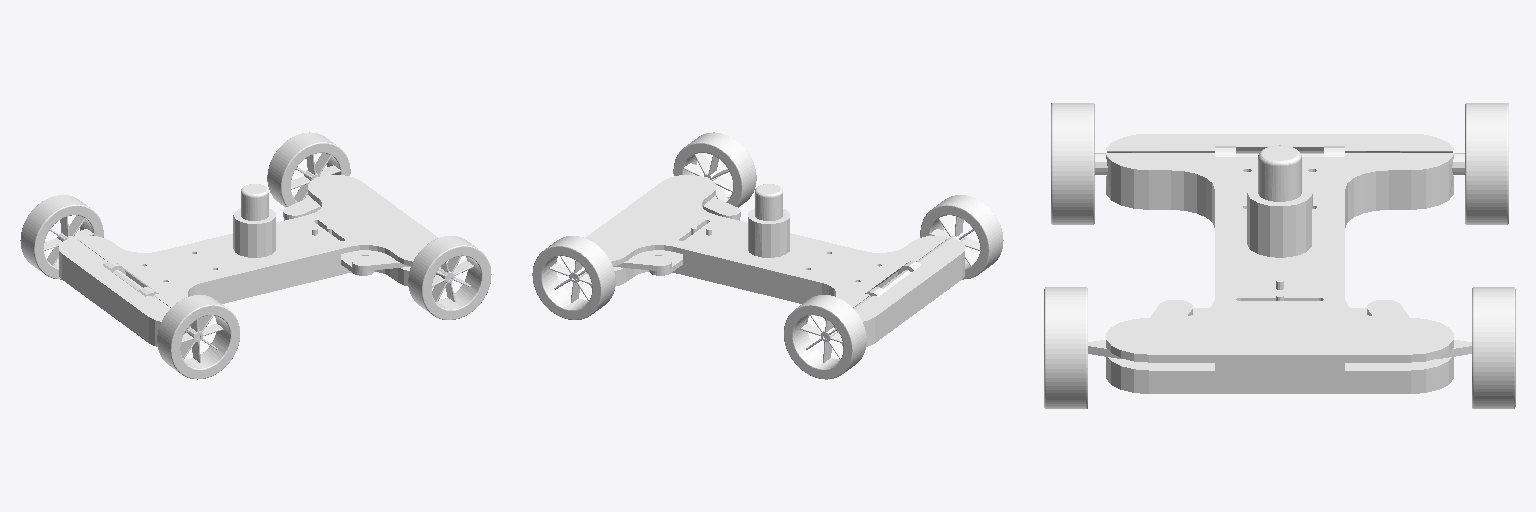
The robot description file, URDF, robot "car":
<?xml version="1.0" encoding="utf-8"?>
<!-- This URDF was automatically created by SolidWorks to URDF Exporter! Originally created by [author] ([email redacted]) 
     Commit Version: 1.5.1-0-g916b5db  Build Version: 1.5.7152.31018
     For more information, please see http://wiki.ros.org/sw_urdf_exporter -->
<robot
  name="car">
  <link
    name="body">
    <inertial>
      <origin
        xyz="-0.00147362422004001 6.9343503716901E-09 0.00536008937256086"
        rpy="0 0 0" />
      <mass
        value="0.0535695794639803" />
      <inertia
        ixx="1.58915072354413E-05"
        ixy="3.28982930034889E-11"
        ixz="-4.11562321303683E-08"
        iyy="7.87113506730212E-05"
        iyz="-4.06595828048343E-13"
        izz="9.31044332979492E-05" />
    </inertial>
    <visual>
      <origin
        xyz="0 0 0"
        rpy="0 0 0" />
      <geometry>
        <mesh
          filename="package://car/meshes/body.STL" />
      </geometry>
      <material
        name="">
        <color
          rgba="1 1 1 1" />
      </material>
    </visual>
    <collision>
      <origin
        xyz="0 0 0"
        rpy="0 0 0" />
      <geometry>
        <mesh
          filename="package://car/meshes/body.STL" />
      </geometry>
    </collision>
  </link>

  <link
    name="rear_wheel_L">
    <inertial>
      <origin
        xyz="3.52367652840802E-07 -0.000182643760617024 -4.64184961049123E-06"
        rpy="0 0 0" />
      <mass
        value="0.00324224485712225" />
      <inertia
        ixx="2.5310630535442E-07"
        ixy="-8.44949920599208E-14"
        ixz="-3.82950631187598E-14"
        iyy="4.5273102300453E-07"
        iyz="1.1131110678842E-12"
        izz="2.53106808812579E-07" />
    </inertial>
    <visual>
      <origin
        xyz="0 0 0"
        rpy="0 0 0" />
      <geometry>
        <mesh
          filename="package://car/meshes/rear_wheel_L.STL" />
      </geometry>
      <material
        name="">
        <color
          rgba="1 1 1 1" />
      </material>
    </visual>
    <collision>
      <origin
        xyz="0 0 0"
        rpy="0 0 0" />
      <geometry>
        <mesh
          filename="package://car/meshes/rear_wheel_L.STL" />
      </geometry>
    </collision>
  </link>
  <joint
    name="wheel_RL"
    type="revolute">
    <origin
      xyz="-0.0500688876737955 0.0474999999999999 0.0070047900366488"
      rpy="0 0 0" />
    <parent
      link="body" />
    <child
      link="rear_wheel_L" />
    <axis
      xyz="0 -1 0" />
    <limit
      lower="-1E+18"
      upper="1E+18"
      effort="0"
      velocity="0" />
  </joint>
  <link
    name="rear_wheel_R">
    <inertial>
      <origin
        xyz="3.52488196783685E-07 0.000182643760617052 -4.64184045821073E-06"
        rpy="0 0 0" />
      <mass
        value="0.00324224485712224" />
      <inertia
        ixx="2.53106305399543E-07"
        ixy="8.45287268907546E-14"
        ixz="-3.85905086993823E-14"
        iyy="4.52731023004529E-07"
        iyz="-1.11310841004132E-12"
        izz="2.53106808767456E-07" />
    </inertial>
    <visual>
      <origin
        xyz="0 0 0"
        rpy="0 0 0" />
      <geometry>
        <mesh
          filename="package://car/meshes/rear_wheel_R.STL" />
      </geometry>
      <material
        name="">
        <color
          rgba="1 1 1 1" />
      </material>
    </visual>
    <collision>
      <origin
        xyz="0 0 0"
        rpy="0 0 0" />
      <geometry>
        <mesh
          filename="package://car/meshes/rear_wheel_R.STL" />
      </geometry>
    </collision>
  </link>
  <joint
    name="wheel_RR"
    type="revolute">
    <origin
      xyz="-0.0500688876726629 -0.0475 0.00700479003673475"
      rpy="0 0 0" />
    <parent
      link="body" />
    <child
      link="rear_wheel_R" />
    <axis
      xyz="0 1 0" />
    <limit
      lower="-1E+18"
      upper="1E+18"
      effort="0"
      velocity="0" />
  </joint>
  <link
    name="camera">
    <inertial>
      <origin
        xyz="-8.67361737988404E-19 -1.38777878078145E-17 -0.00549365953697964"
        rpy="0 0 0" />
      <mass
        value="0.000837862295674521" />
      <inertia
        ixx="1.36537563477024E-08"
        ixy="-2.15411620338094E-28"
        ixz="-3.3045437194642E-25"
        iyy="1.36537563477024E-08"
        iyz="-1.84530471794778E-24"
        izz="9.85393136281939E-09" />
    </inertial>
    <visual>
      <origin
        xyz="0 0 0"
        rpy="0 0 0" />
      <geometry>
        <mesh
          filename="package://car/meshes/camera.STL" />
      </geometry>
      <material
        name="">
        <color
          rgba="1 1 1 1" />
      </material>
    </visual>
    <collision>
      <origin
        xyz="0 0 0"
        rpy="0 0 0" />
      <geometry>
        <mesh
          filename="package://car/meshes/camera.STL" />
      </geometry>
    </collision>
  </link>
  <joint
    name="camera_move"
    type="revolute">
    <origin
      xyz="-6.8524E-05 0 0.033"
      rpy="0 0 0" />
    <parent
      link="body" />
    <child
      link="camera" />
    <axis
      xyz="0 0 -1" />
    <limit
      lower="-3.14"
      upper="3.14"
      effort="0"
      velocity="0" />
  </joint>
  <link
    name="base_turn">
    <inertial>
      <origin
        xyz="2.08166817117217E-17 4.16333634234434E-17 -0.00577995533563398"
        rpy="0 0 0" />
      <mass
        value="0.000932875961836965" />
      <inertia
        ixx="3.22772740261493E-08"
        ixy="3.52272500314951E-20"
        ixz="-4.66856292397298E-24"
        iyy="5.17378886069975E-09"
        iyz="7.40453776880601E-24"
        izz="3.58965313644415E-08" />
    </inertial>
    <visual>
      <origin
        xyz="0 0 0"
        rpy="0 0 0" />
      <geometry>
        <mesh
          filename="package://car/meshes/base_turn.STL" />
      </geometry>
      <material
        name="">
        <color
          rgba="1 1 1 1" />
      </material>
    </visual>
    <collision>
      <origin
        xyz="0 0 0"
        rpy="0 0 0" />
      <geometry>
        <mesh
          filename="package://car/meshes/base_turn.STL" />
      </geometry>
    </collision>
  </link>
  <joint
    name="turn_1"
    type="prismatic">
    <origin
      xyz="0.029931 0 0.011"
      rpy="0 0 0" />
    <parent
      link="body" />
    <child
      link="base_turn" />
    <axis
      xyz="0 1 0" />
    <limit
      lower="-0.05"
      upper="0.05"
      effort="0"
      velocity="0" />
  </joint>
  <link
    name="front_wheel_L">
    <inertial>
      <origin
        xyz="-0.00753777386632463 0.000177263406601652 -6.07153216591882E-18"
        rpy="0 0 0" />
      <mass
        value="0.000481586729230747" />
      <inertia
        ixx="1.87399910018502E-08"
        ixy="-1.62392528662394E-08"
        ixz="-2.41922450517481E-23"
        iyy="2.74496585048313E-08"
        iyz="-1.36522443884057E-23"
        izz="4.58709478816845E-08" />
    </inertial>
    <visual>
      <origin
        xyz="0 0 0"
        rpy="0 0 0" />
      <geometry>
        <mesh
          filename="package://car/meshes/front_wheel_L.STL" />
      </geometry>
      <material
        name="">
        <color
          rgba="1 1 1 1" />
      </material>
    </visual>
    <collision>
      <origin
        xyz="0 0 0"
        rpy="0 0 0" />
      <geometry>
        <mesh
          filename="package://car/meshes/front_wheel_L.STL" />
      </geometry>
    </collision>
  </link>
  <joint
    name="wheel_FL"
    type="revolute">
    <origin
      xyz="0.049931 0.03 0.007"
      rpy="0 0 0" />
    <parent
      link="body" />
    <child
      link="front_wheel_L" />
    <axis
      xyz="0 0 -1" />
    <limit
      lower="-3.14"
      upper="3.14"
      effort="0"
      velocity="0" />
  </joint>
  <link
    name="front_wheel_L1">
    <inertial>
      <origin
        xyz="-4.62183183356363E-06 -0.00018264376061719 -5.56418251074914E-07"
        rpy="0 0 0" />
      <mass
        value="0.00324224485712225" />
      <inertia
        ixx="2.53106804467257E-07"
        ixy="1.10831149995369E-12"
        ixz="6.02935982915659E-14"
        iyy="4.5273102300453E-07"
        iyz="1.33425546209352E-13"
        izz="2.53106309699742E-07" />
    </inertial>
    <visual>
      <origin
        xyz="0 0 0"
        rpy="0 0 0" />
      <geometry>
        <mesh
          filename="package://car/meshes/front_wheel_L1.STL" />
      </geometry>
      <material
        name="">
        <color
          rgba="1 1 1 1" />
      </material>
    </visual>
    <collision>
      <origin
        xyz="0 0 0"
        rpy="0 0 0" />
      <geometry>
        <mesh
          filename="package://car/meshes/front_wheel_L1.STL" />
      </geometry>
    </collision>
  </link>
  <joint
    name="wheel_FL1"
    type="revolute">
    <origin
      xyz="0 0.019012 0"
      rpy="0 0 0" />
    <parent
      link="front_wheel_L" />
    <child
      link="front_wheel_L1" />
    <axis
      xyz="0 -1 0" />
    <limit
      lower="-1E+18"
      upper="1E+18"
      effort="0"
      velocity="0" />
  </joint>
  <link
    name="front_wheel_R">
    <inertial>
      <origin
        xyz="-0.00753777386632665 -0.000177263406515943 -3.46944695195361E-18"
        rpy="0 0 0" />
      <mass
        value="0.000481586729230747" />
      <inertia
        ixx="1.87399910022195E-08"
        ixy="1.62392528663385E-08"
        ixz="2.82336933173068E-22"
        iyy="2.74496585044619E-08"
        iyz="-3.2102460077579E-22"
        izz="4.58709478816845E-08" />
    </inertial>
    <visual>
      <origin
        xyz="0 0 0"
        rpy="0 0 0" />
      <geometry>
        <mesh
          filename="package://car/meshes/front_wheel_R.STL" />
      </geometry>
      <material
        name="">
        <color
          rgba="1 1 1 1" />
      </material>
    </visual>
    <collision>
      <origin
        xyz="0 0 0"
        rpy="0 0 0" />
      <geometry>
        <mesh
          filename="package://car/meshes/front_wheel_R.STL" />
      </geometry>
    </collision>
  </link>
  <joint
    name="wheel_FR"
    type="revolute">
    <origin
      xyz="0.049931 -0.03 0.007"
      rpy="0 0 0" />
    <parent
      link="body" />
    <child
      link="front_wheel_R" />
    <axis
      xyz="0 0 1" />
    <limit
      lower="-3.14"
      upper="3.14"
      effort="0"
      velocity="0" />
  </joint>
  <link
    name="front_wheel_R1">
    <inertial>
      <origin
        xyz="3.93133002957874E-06 0.000182643760617038 -2.49310548737416E-06"
        rpy="0 0 0" />
      <mass
        value="0.00324224485712225" />
      <inertia
        ixx="2.53106665776627E-07"
        ixy="9.42731118825678E-13"
        ixz="-2.30260386084967E-13"
        iyy="4.52731023004529E-07"
        iyz="-5.97841624196346E-13"
        izz="2.53106448390372E-07" />
    </inertial>
    <visual>
      <origin
        xyz="0 0 0"
        rpy="0 0 0" />
      <geometry>
        <mesh
          filename="package://car/meshes/front_wheel_R1.STL" />
      </geometry>
      <material
        name="">
        <color
          rgba="1 1 1 1" />
      </material>
    </visual>
    <collision>
      <origin
        xyz="0 0 0"
        rpy="0 0 0" />
      <geometry>
        <mesh
          filename="package://car/meshes/front_wheel_R1.STL" />
      </geometry>
    </collision>
  </link>
  <joint
    name="wheel_FR1"
    type="revolute">
    <origin
      xyz="0 -0.019012 0"
      rpy="0 0 0" />
    <parent
      link="front_wheel_R" />
    <child
      link="front_wheel_R1" />
    <axis
      xyz="0 1 0" />
    <limit
      lower="-1E+18"
      upper="1E+18"
      effort="0"
      velocity="0" />
  </joint>
</robot>

--- What the picture shows (computed from the rendered views, not written in the file) ---
3 views of the same robot in one strip: view 1: azimuth 30°, elevation 25°; view 2: azimuth 150°, elevation 25°; view 3: azimuth 270°, elevation 25° (orthographic).
Model car with 9 links and 8 joints (7 revolute, 1 prismatic), rooted at body, posed every joint at zero.
Visible links, largest first — view 1: body, front_wheel_R1, rear_wheel_R, rear_wheel_L, front_wheel_L1, camera, front_wheel_R; view 2: body, front_wheel_L1, rear_wheel_L, rear_wheel_R, front_wheel_R1, camera, front_wheel_L; view 3: body, rear_wheel_L, rear_wheel_R, front_wheel_R1, front_wheel_L1, camera, front_wheel_L, front_wheel_R.
Boxes of the visible links, x1=… form: body: x1=59, y1=175, x2=448, y2=346; front_wheel_R1: x1=408, y1=236, x2=491, y2=319; rear_wheel_R: x1=157, y1=295, x2=239, y2=379; rear_wheel_L: x1=20, y1=195, x2=103, y2=279; front_wheel_L1: x1=267, y1=132, x2=350, y2=207; camera: x1=241, y1=184, x2=268, y2=220; front_wheel_R: x1=352, y1=254, x2=451, y2=279; body: x1=573, y1=175, x2=964, y2=346; front_wheel_L1: x1=532, y1=236, x2=615, y2=319; rear_wheel_L: x1=784, y1=295, x2=866, y2=379; rear_wheel_R: x1=920, y1=195, x2=1003, y2=279; front_wheel_R1: x1=673, y1=132, x2=756, y2=207; camera: x1=755, y1=184, x2=782, y2=220; front_wheel_L: x1=572, y1=254, x2=671, y2=279; body: x1=1095, y1=134, x2=1464, y2=393; rear_wheel_L: x1=1465, y1=103, x2=1508, y2=224; rear_wheel_R: x1=1051, y1=103, x2=1094, y2=224; front_wheel_R1: x1=1044, y1=287, x2=1087, y2=408; front_wheel_L1: x1=1472, y1=287, x2=1515, y2=408; camera: x1=1258, y1=145, x2=1301, y2=201; front_wheel_L: x1=1367, y1=300, x2=1471, y2=358; front_wheel_R: x1=1088, y1=300, x2=1192, y2=358.
Size in the robot's own frame: 0.128 by 0.108 by 0.04 metres.
9 mesh visuals loaded from 9 distinct referenced files (9 binary STL).